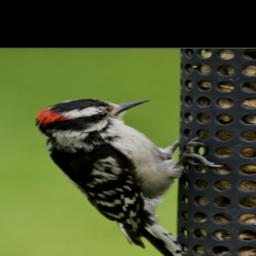Woodpecker: (36, 95, 217, 256)
